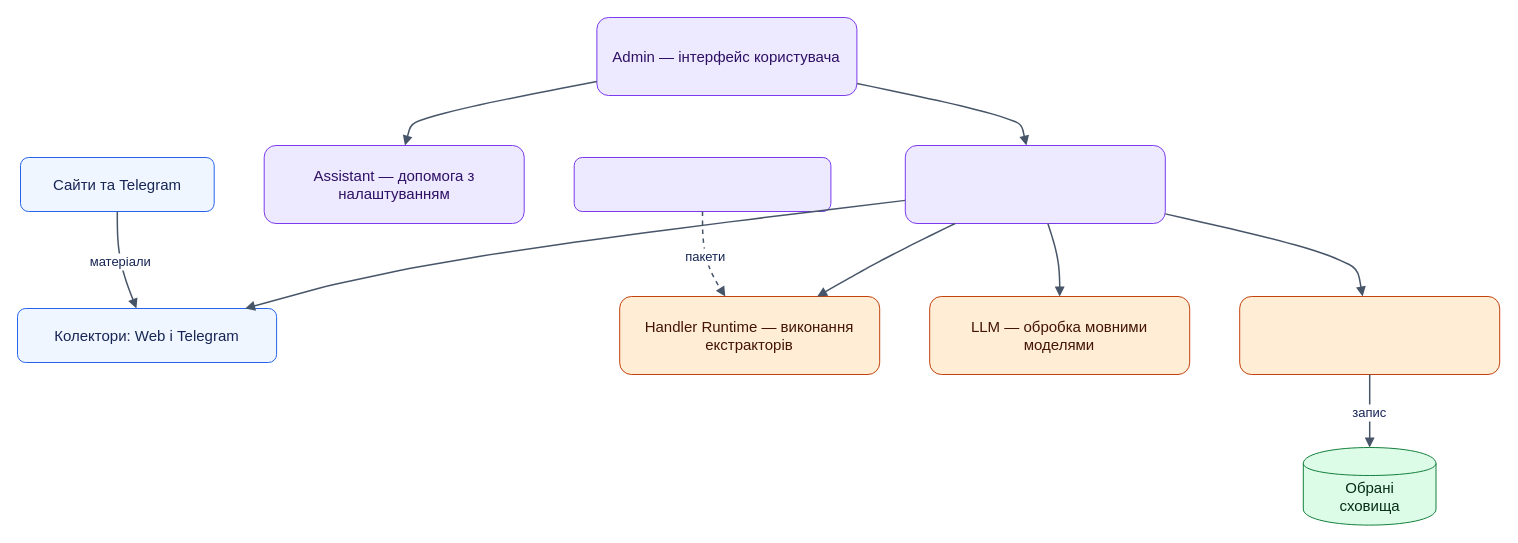
Image size: 1518x543. Some labels were removed from this diagram. The box of each missing label's shape, as (x1, y1, x2, y2) in pixels:
Orchestrator — завдання та розклади: (904, 144, 1165, 224)
Registry — пакети та версії: (573, 156, 831, 212)
Storage — збереження даних: (1239, 296, 1500, 374)
